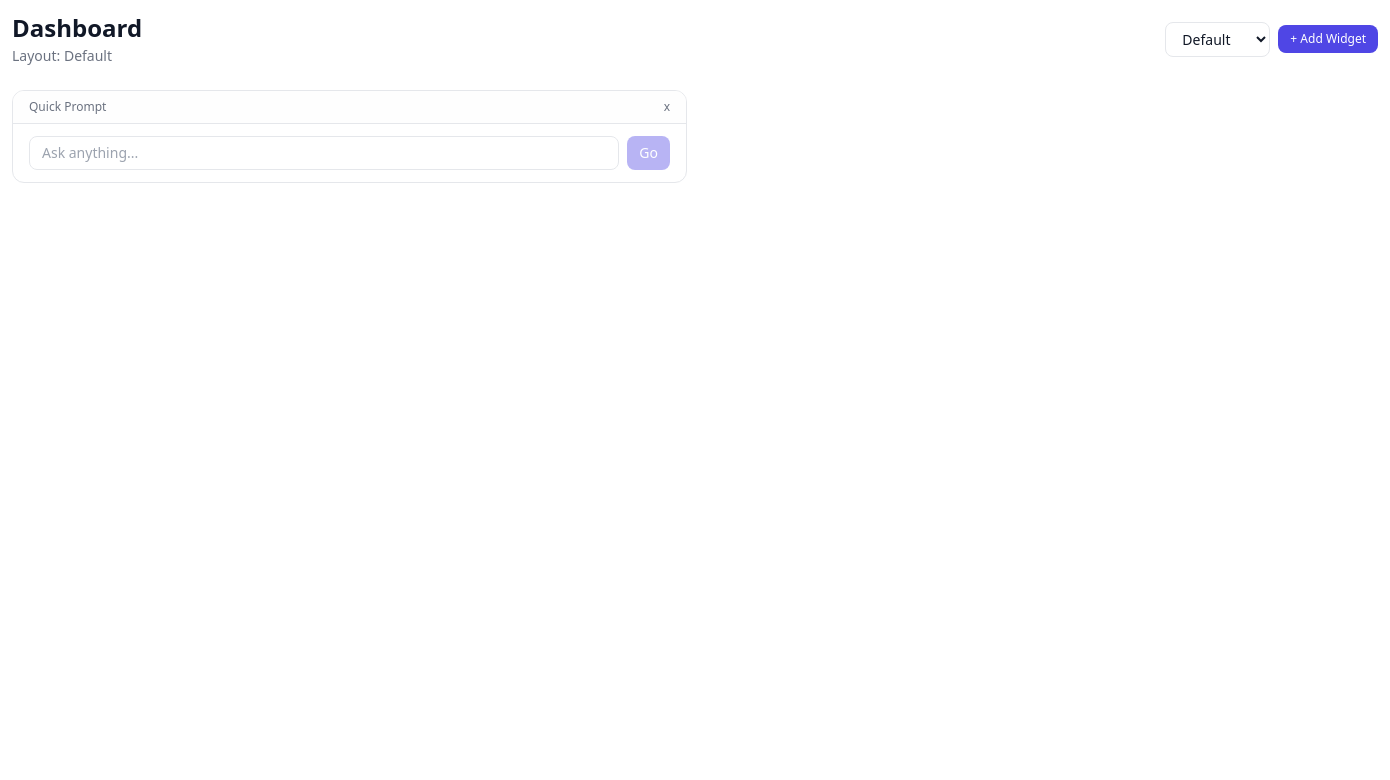
Test: CustomDashboard › hides widget picker when + Add Widget clicked again
Click the button "+ Add Widget" at (1328, 39), box [1278,25,1378,53]
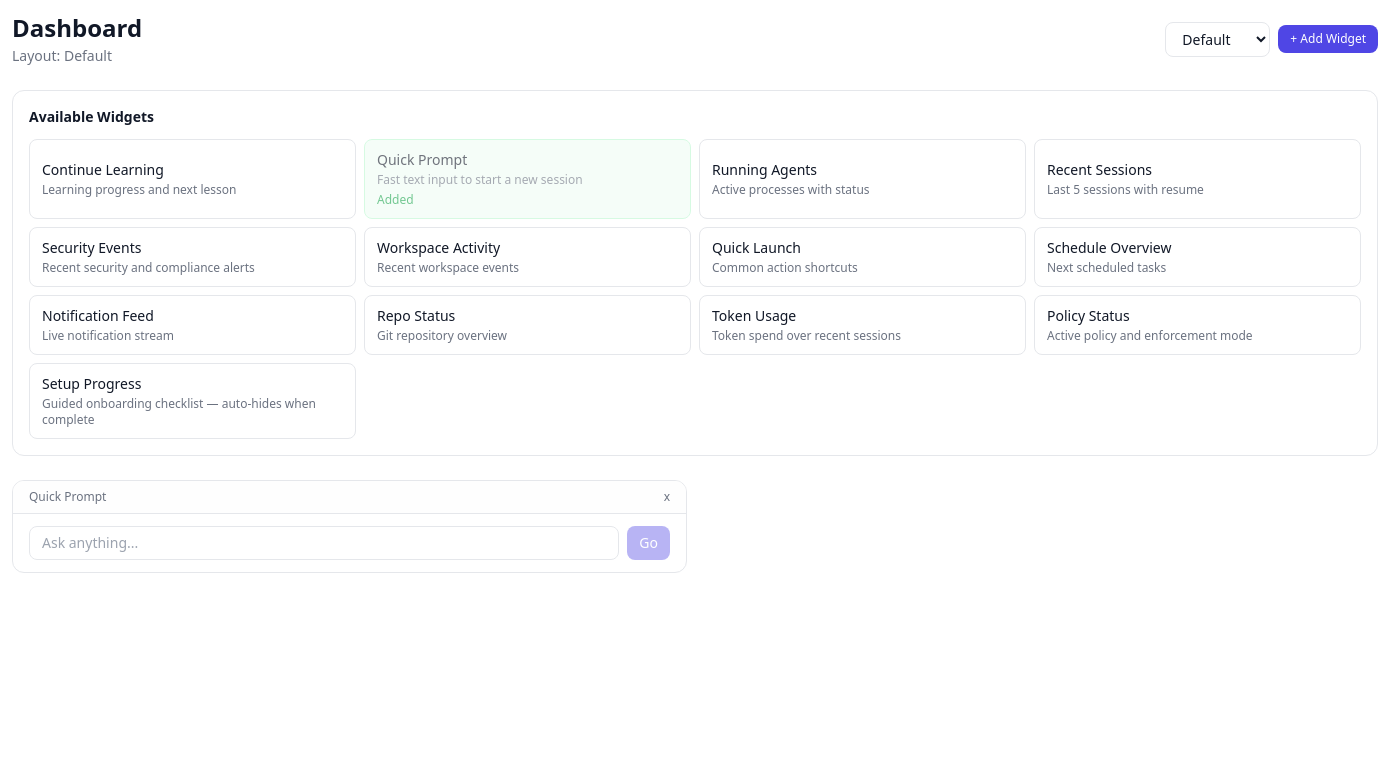
Now the heading "Available Widgets" is shown, box [29,107,154,126]
Click the button "+ Add Widget" at (1328, 39), box [1278,25,1378,53]
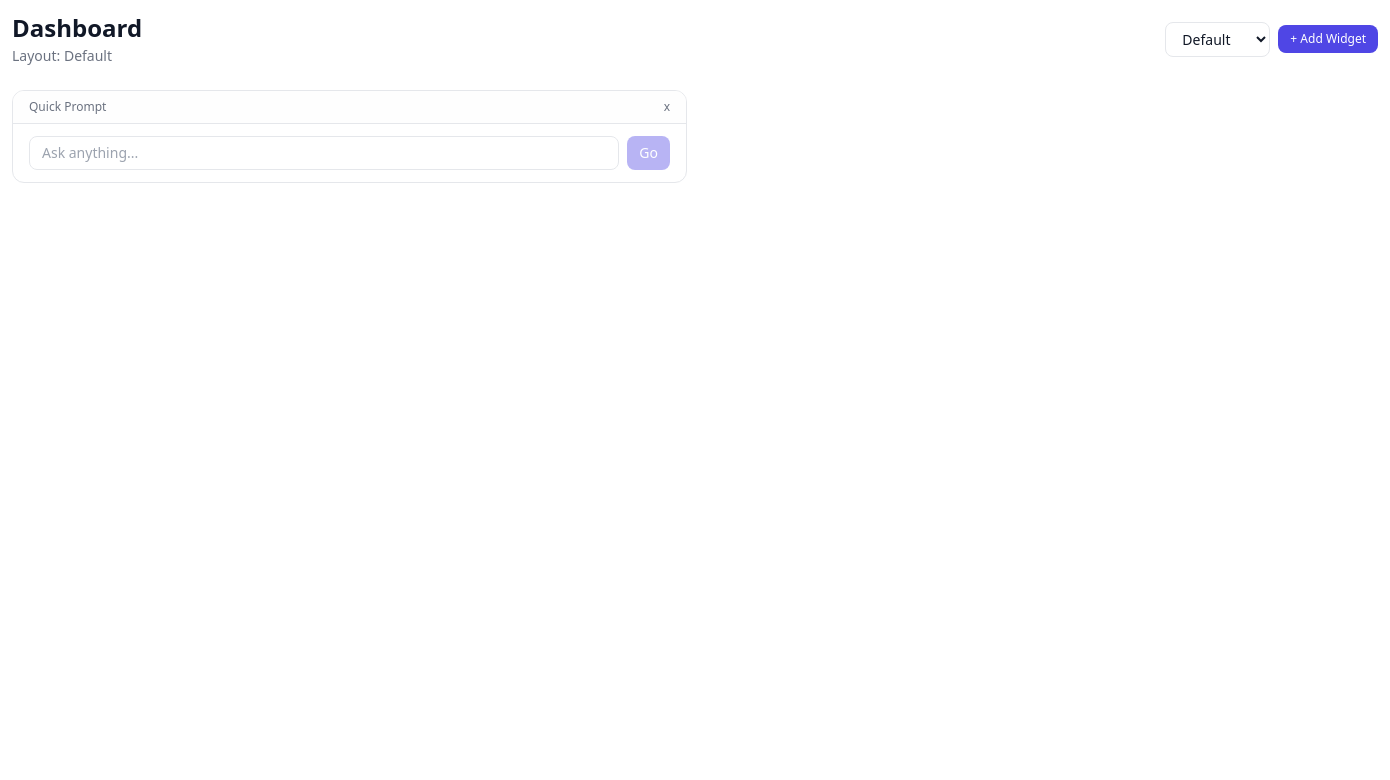
Now the heading "Available Widgets" is gone
